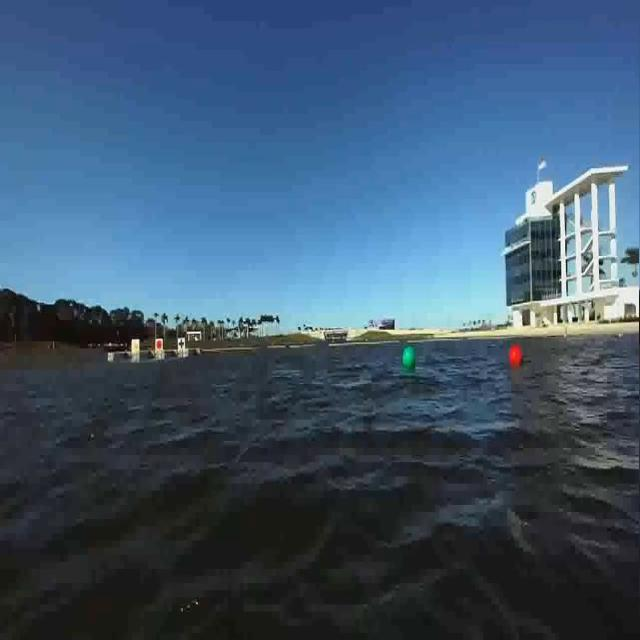green-buoy: (403, 346, 419, 370)
red-buoy: (508, 344, 522, 370)
